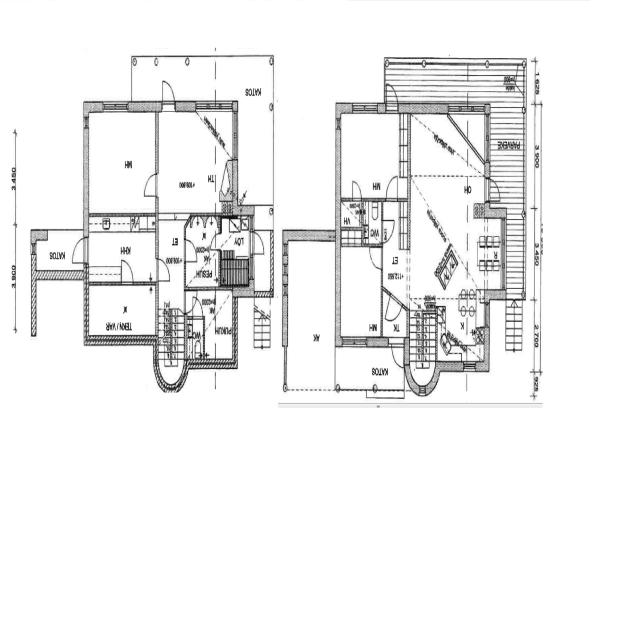door: (155, 231, 180, 288), (382, 286, 405, 333), (383, 73, 400, 114), (141, 166, 160, 198), (389, 337, 406, 370), (160, 75, 177, 108), (70, 235, 87, 264), (381, 215, 396, 247), (384, 172, 401, 199), (249, 229, 266, 256), (184, 236, 199, 266), (155, 255, 171, 282), (368, 242, 382, 272), (487, 172, 501, 200), (120, 255, 133, 284), (351, 173, 364, 201), (190, 294, 203, 316), (210, 231, 222, 250)
window: (343, 333, 370, 351), (349, 97, 377, 114), (442, 357, 465, 372), (215, 358, 235, 372)
zone: (407, 101, 487, 294), (155, 100, 235, 214), (282, 231, 338, 391), (86, 105, 157, 214), (339, 108, 405, 202), (84, 213, 158, 284), (338, 238, 383, 341), (85, 281, 157, 342), (439, 289, 486, 370), (184, 213, 222, 283), (218, 212, 252, 286), (204, 286, 236, 364), (338, 199, 368, 237), (184, 311, 203, 358), (367, 198, 383, 247)
